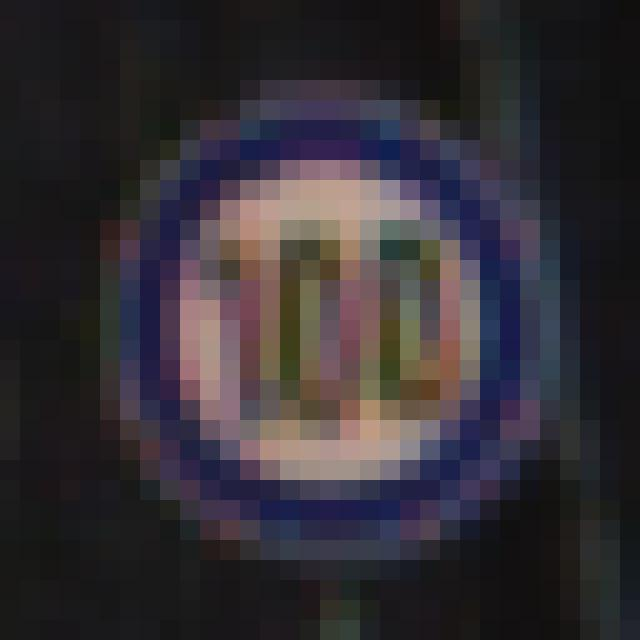SPEED LIMIT 100: (116, 103, 552, 552)
